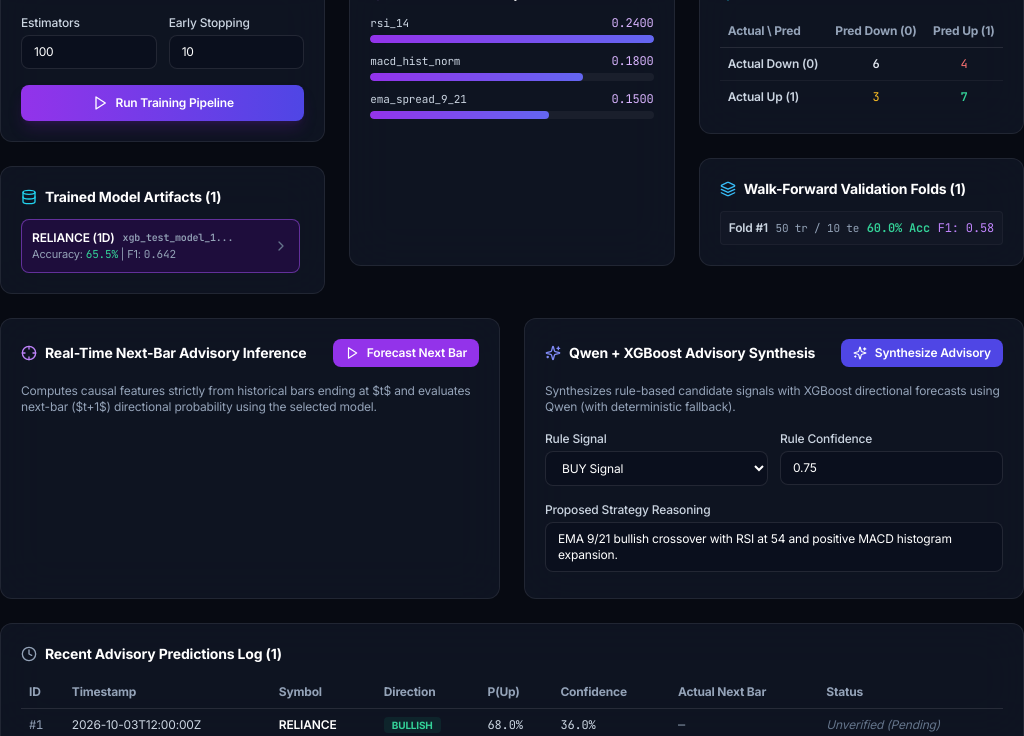
Test: XGBoostResearchView › handles advisory next-bar prediction and shows probability meter
(page scrolled)
Click the button "Forecast Next Bar" at (406, 352), box left=333, top=338, right=479, bottom=366
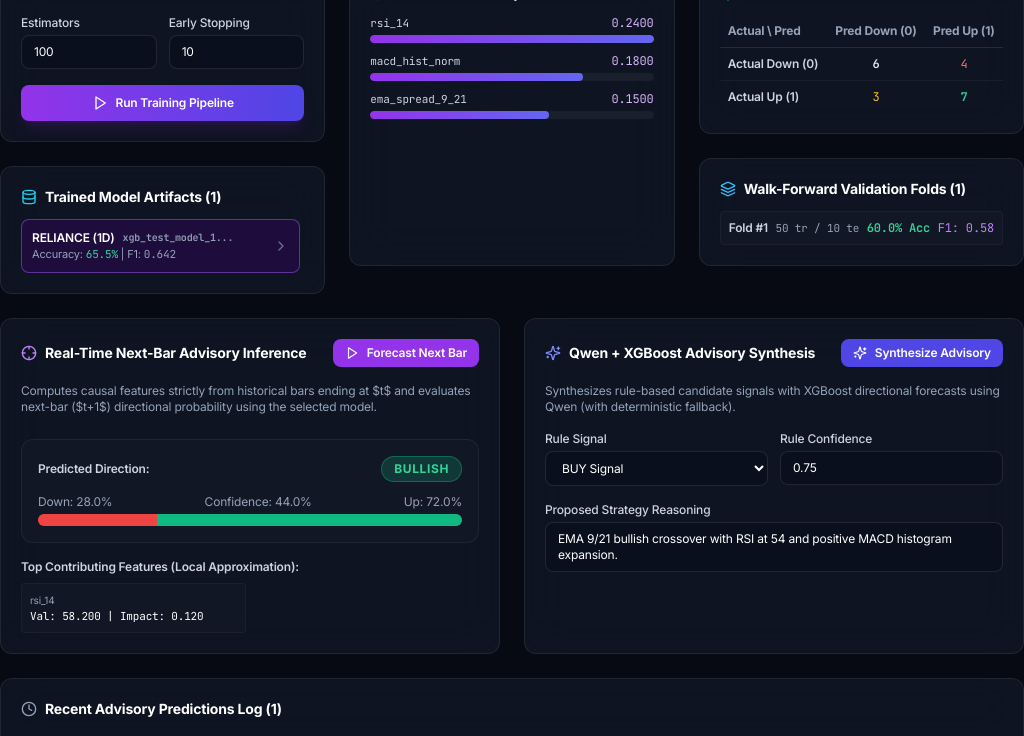
Expected: the text "Up: 72.0%" is shown, left=404, top=494, right=462, bottom=510
Expected: the text "Down: 28.0%" is shown, left=38, top=494, right=112, bottom=510
